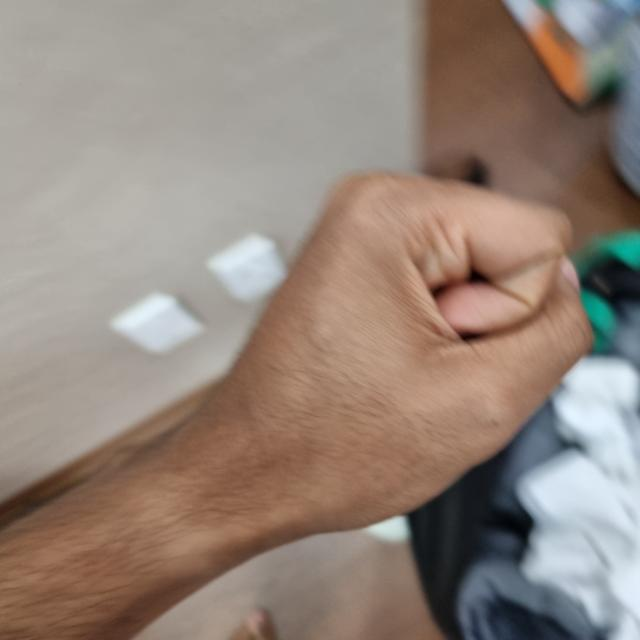Rock: (208, 170, 590, 532)
